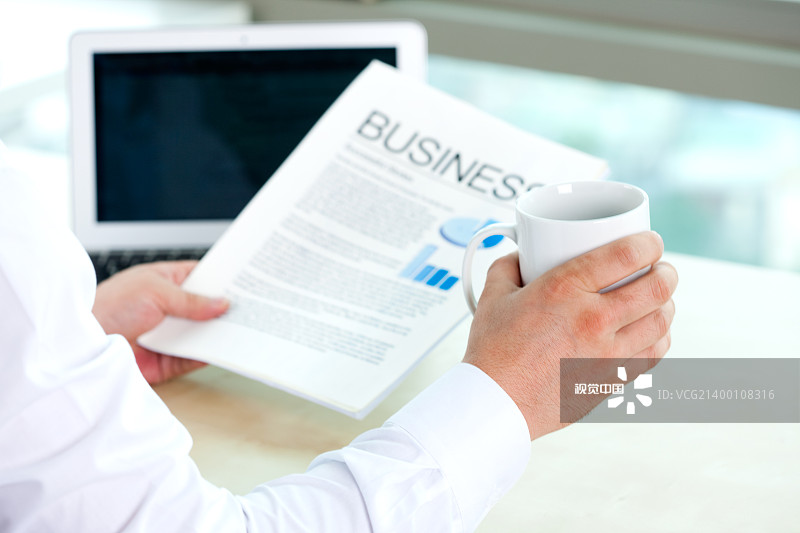no-phone: (448, 203, 686, 450), (85, 238, 241, 396)
